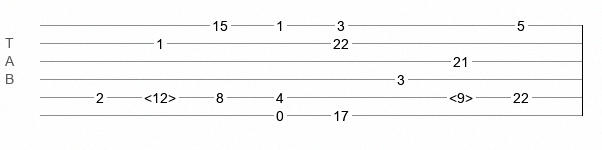0: (276, 108, 284, 118)
1: (156, 36, 164, 46), (276, 18, 284, 28)
15: (212, 18, 228, 28)
17: (333, 108, 349, 118)
2: (96, 90, 104, 100)
21: (453, 54, 469, 64)
22: (333, 36, 349, 46), (513, 90, 529, 100)
3: (337, 18, 345, 28), (397, 72, 405, 82)
4: (276, 90, 284, 100)
5: (517, 18, 525, 28)
8: (216, 90, 224, 100)
harmonic: (144, 90, 176, 100), (449, 90, 473, 100)
